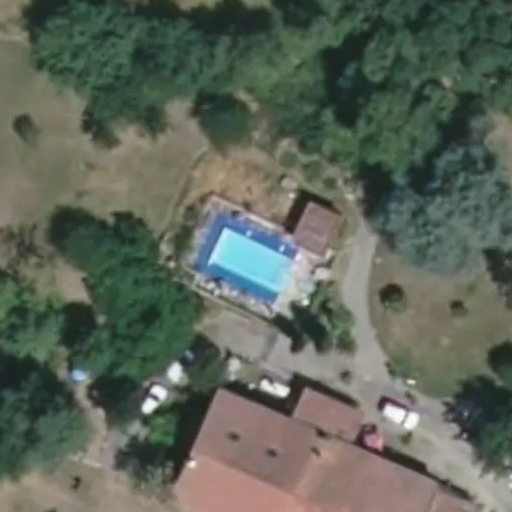pool: (214, 239, 297, 244)
